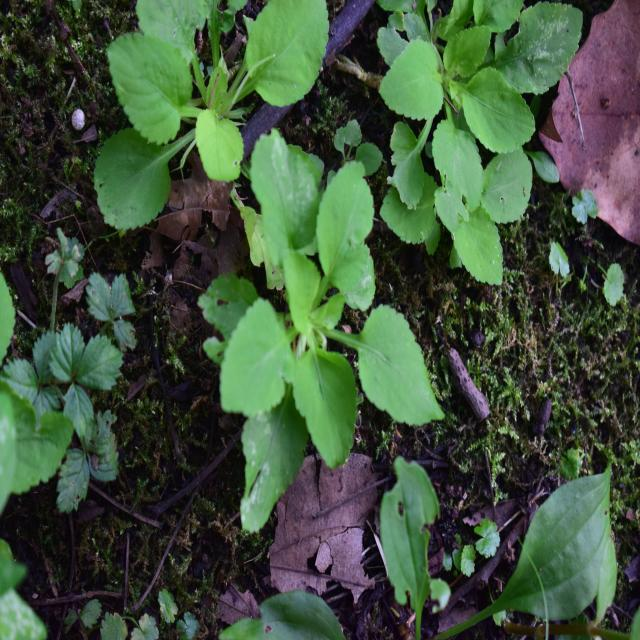Viola: (202, 139, 426, 473), (77, 4, 346, 209), (381, 0, 546, 281)
